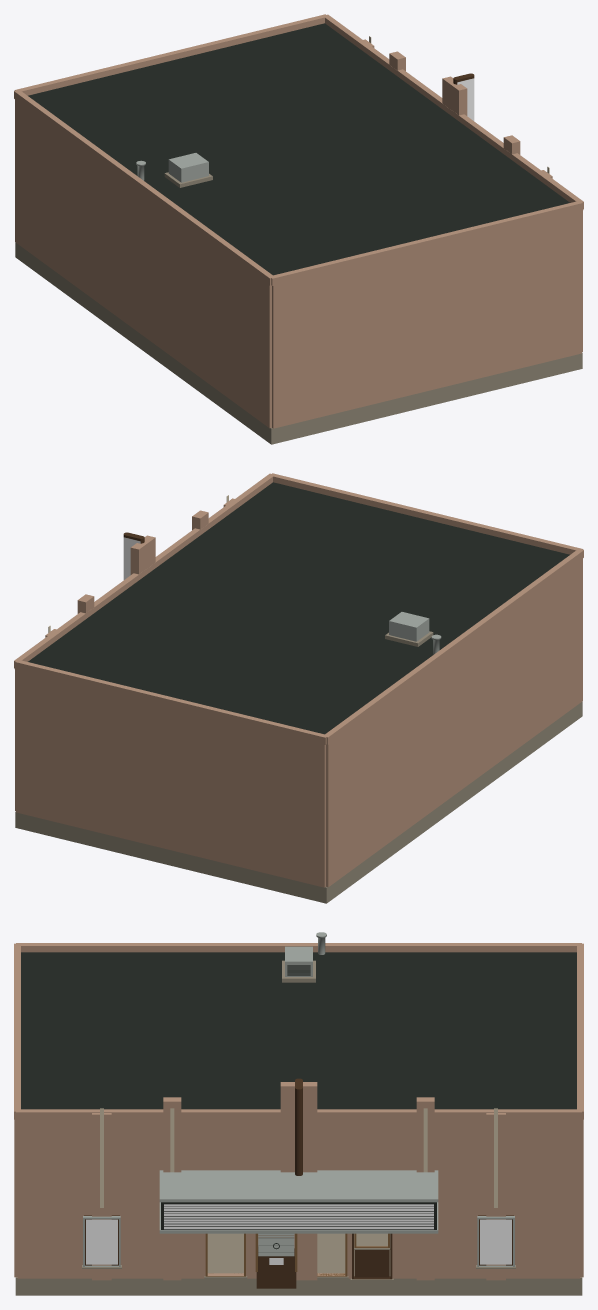
Rendered from SM_Town_Cinema_Shell.fbx.
3 renders of one model, top to bottom at view 1: azimuth 30°, elevation 25°; view 2: azimuth 150°, elevation 25°; view 3: azimuth 270°, elevation 25°, orthographic. The views are drawn at different scales.
Parts seen in each view (by area): view 1: SM_Town_Cinema_Shell; view 2: SM_Town_Cinema_Shell; view 3: SM_Town_Cinema_Shell.
Part boxes in pixels (bbox=[...]): SM_Town_Cinema_Shell: bbox=[14, 14, 583, 444]; SM_Town_Cinema_Shell: bbox=[14, 473, 583, 903]; SM_Town_Cinema_Shell: bbox=[14, 932, 583, 1295].
Bounding box in the file's own units: 16.69 × 20.25 × 8.5.
